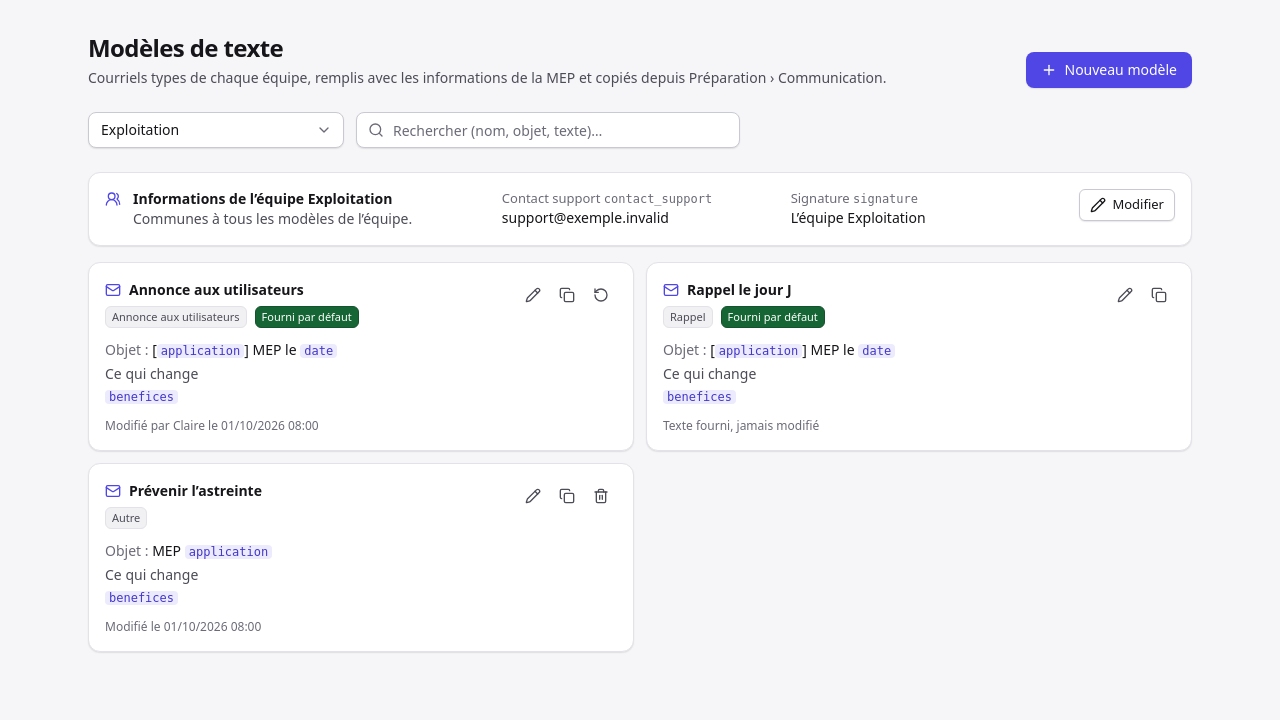
Test case: Paramètres › Modèles de texte › recherche dans le nom, l’objet et le texte
Expected: the text "Rappel le jour J" is shown, [687, 279, 792, 300]
In the field named "Rechercher un modèle": (548, 130) [356, 112, 740, 148], type "astreinte"
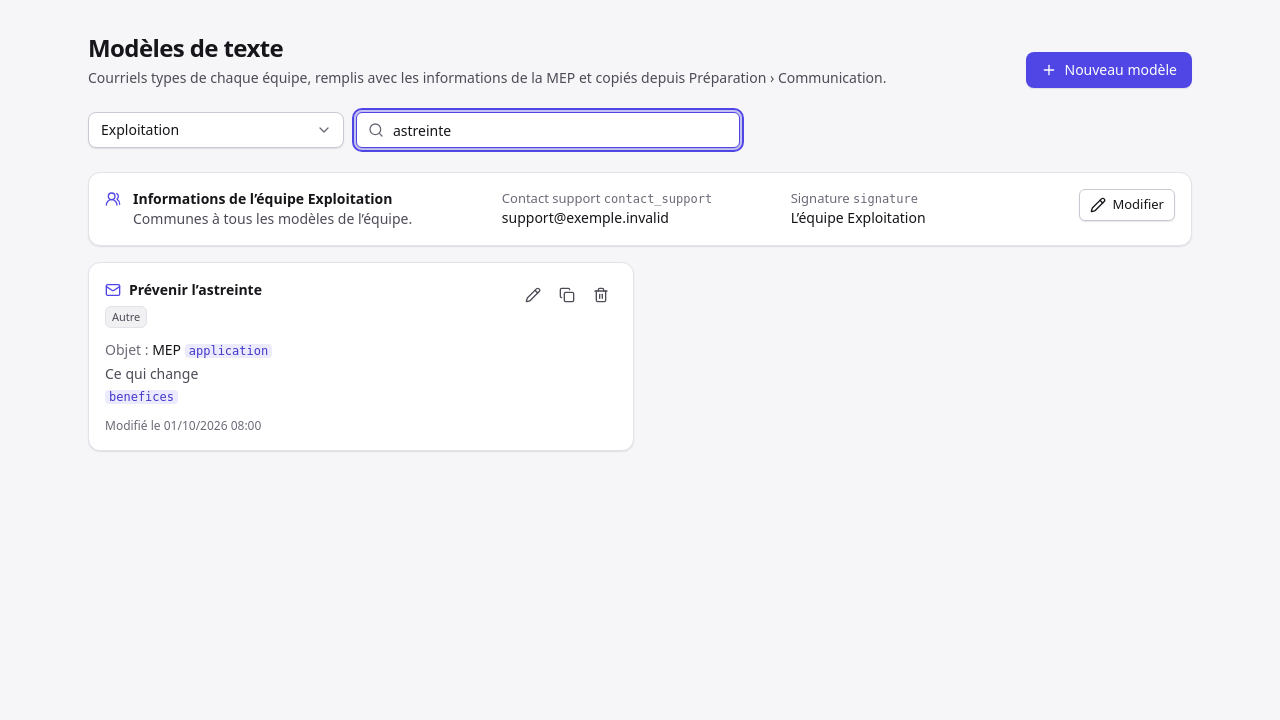
Expected: the text "Prévenir l’astreinte" is shown, [129, 279, 262, 300]
Expected: the text "Rappel le jour J" is gone
